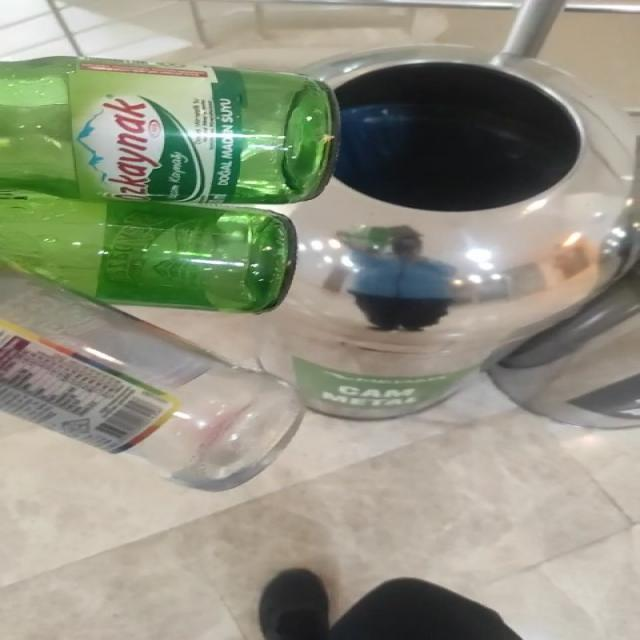glass: (1, 56, 337, 491)
